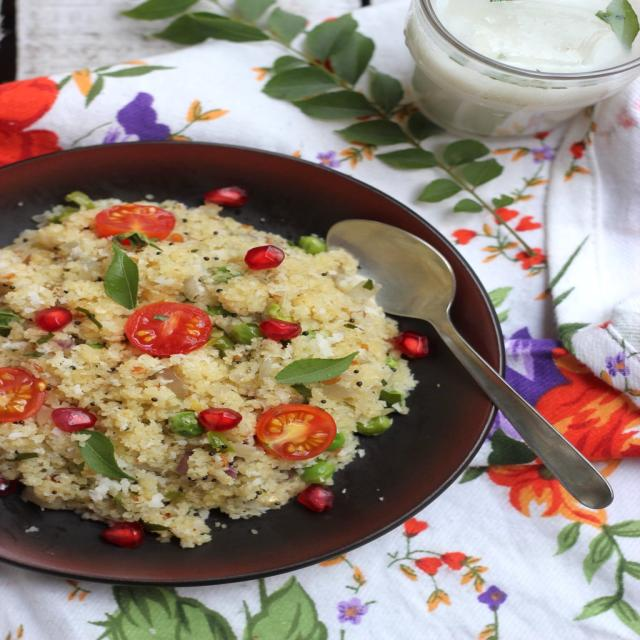UPMA: (0, 199, 415, 545)
